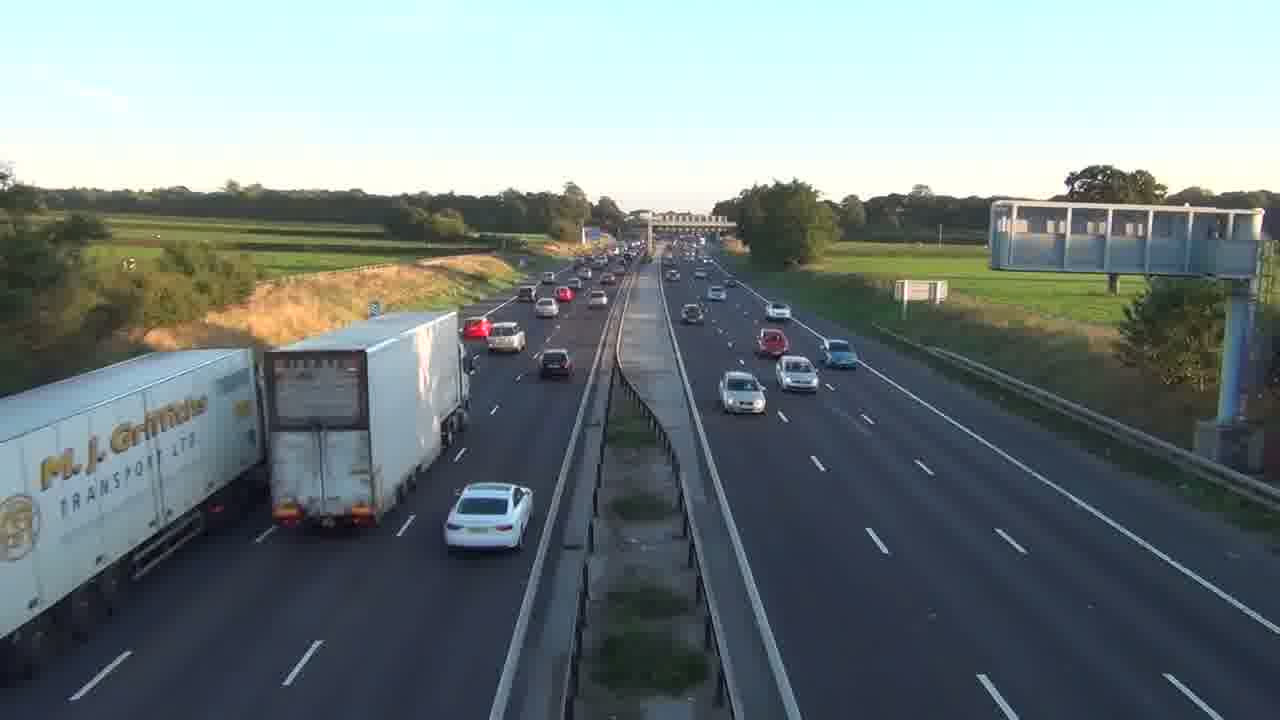car: (443, 480, 534, 553), (718, 368, 768, 415), (776, 354, 819, 394), (486, 318, 526, 353), (821, 338, 858, 371), (536, 348, 574, 379), (756, 327, 789, 357), (680, 301, 706, 324), (533, 296, 559, 318)
